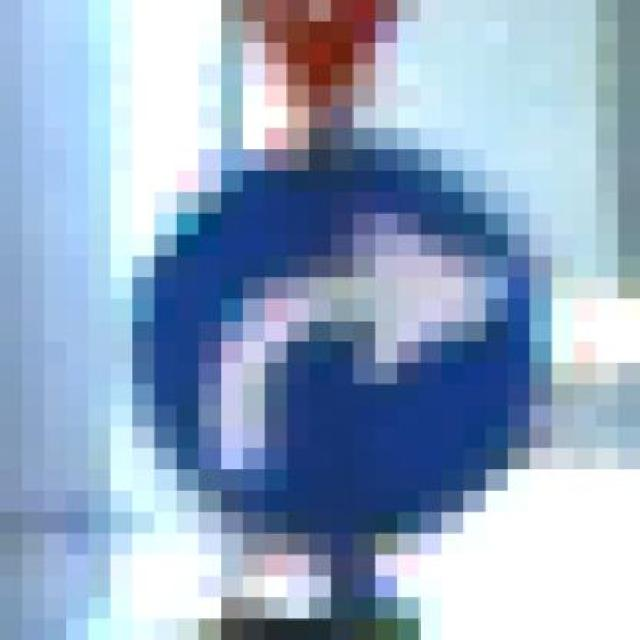Turn right ahead: (111, 107, 574, 555)
